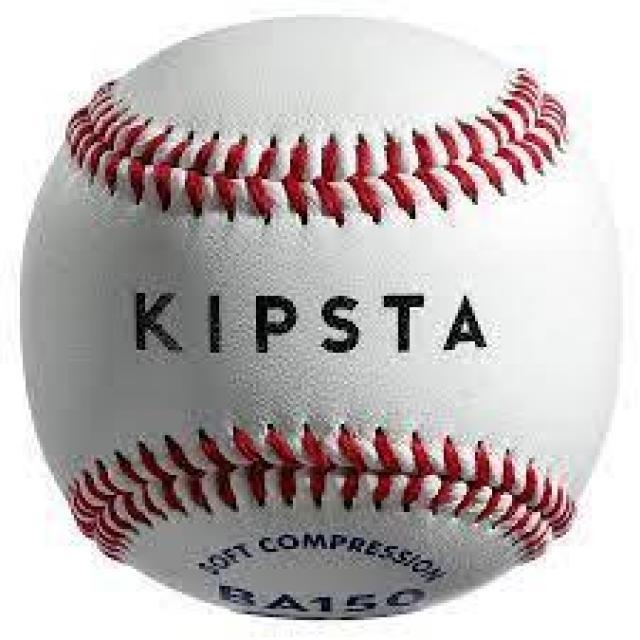ball: (16, 12, 630, 624)
